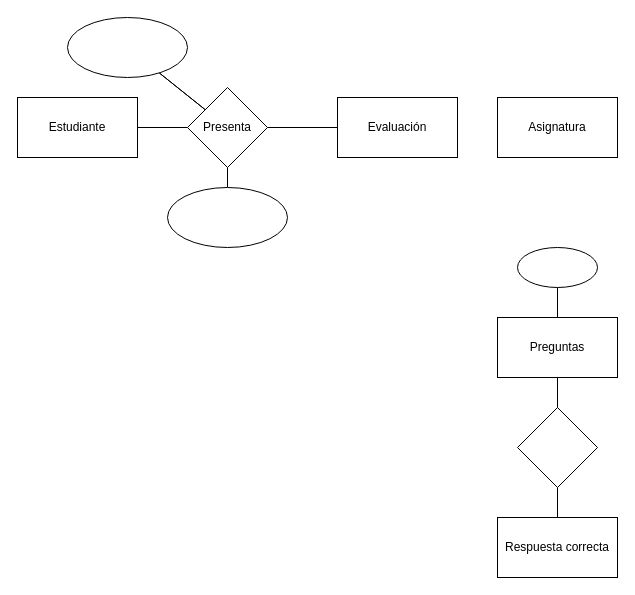
This 635x595 diagram has some shape labels left out. The centre of each missing label's shape, as x and y in pixels:
fecha_pres: pixel 127 47
Tiene: pixel 557 447
Tipo: pixel 557 267
